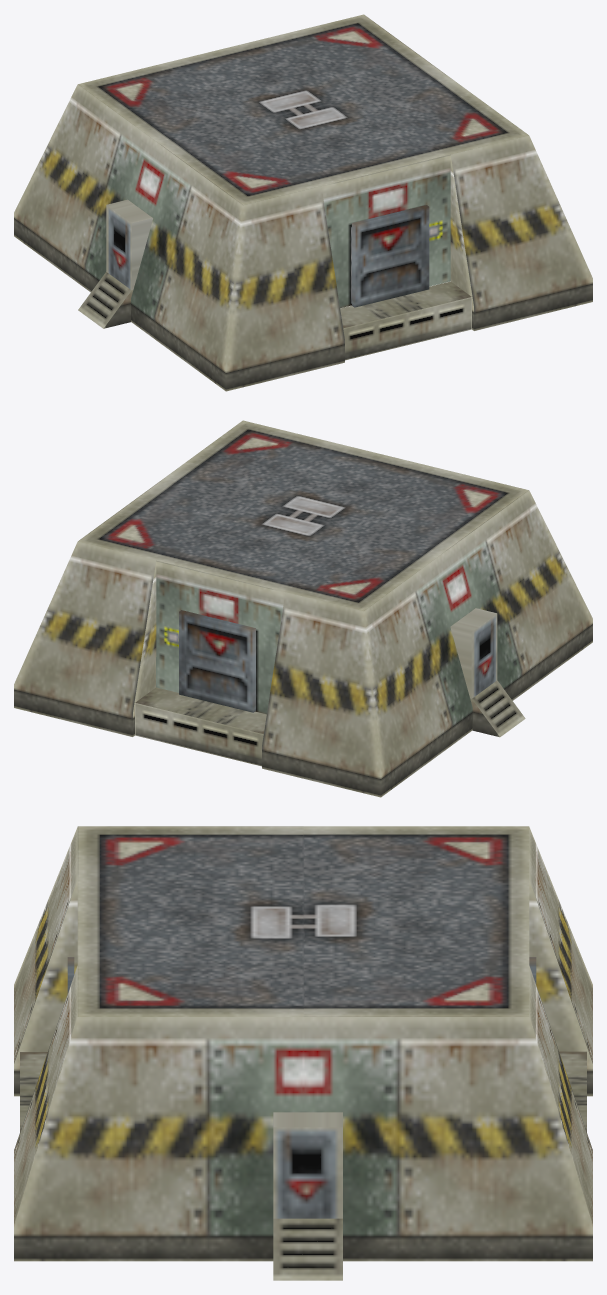
Rendered from ammodump.glb.
3 views of the same model, one above another, from view 1: azimuth 30°, elevation 25°; view 2: azimuth 150°, elevation 25°; view 3: azimuth 270°, elevation 25° (orthographic). The views are drawn at different scales.
Visible parts, largest first — view 1: Ammo Dump, garage door; view 2: Ammo Dump, garage door; view 3: Ammo Dump.
Boxes of the visible parts, left/top/right/bottom form: Ammo Dump: left=14, top=14, right=592, bottom=391; garage door: left=352, top=205, right=429, bottom=307; Ammo Dump: left=14, top=420, right=592, bottom=797; garage door: left=179, top=610, right=255, bottom=712; Ammo Dump: left=14, top=826, right=592, bottom=1280.
Bounding box in the file's own units: 16.28 × 5.87 × 14.13.
Materials: 1 (1 with a texture image).
